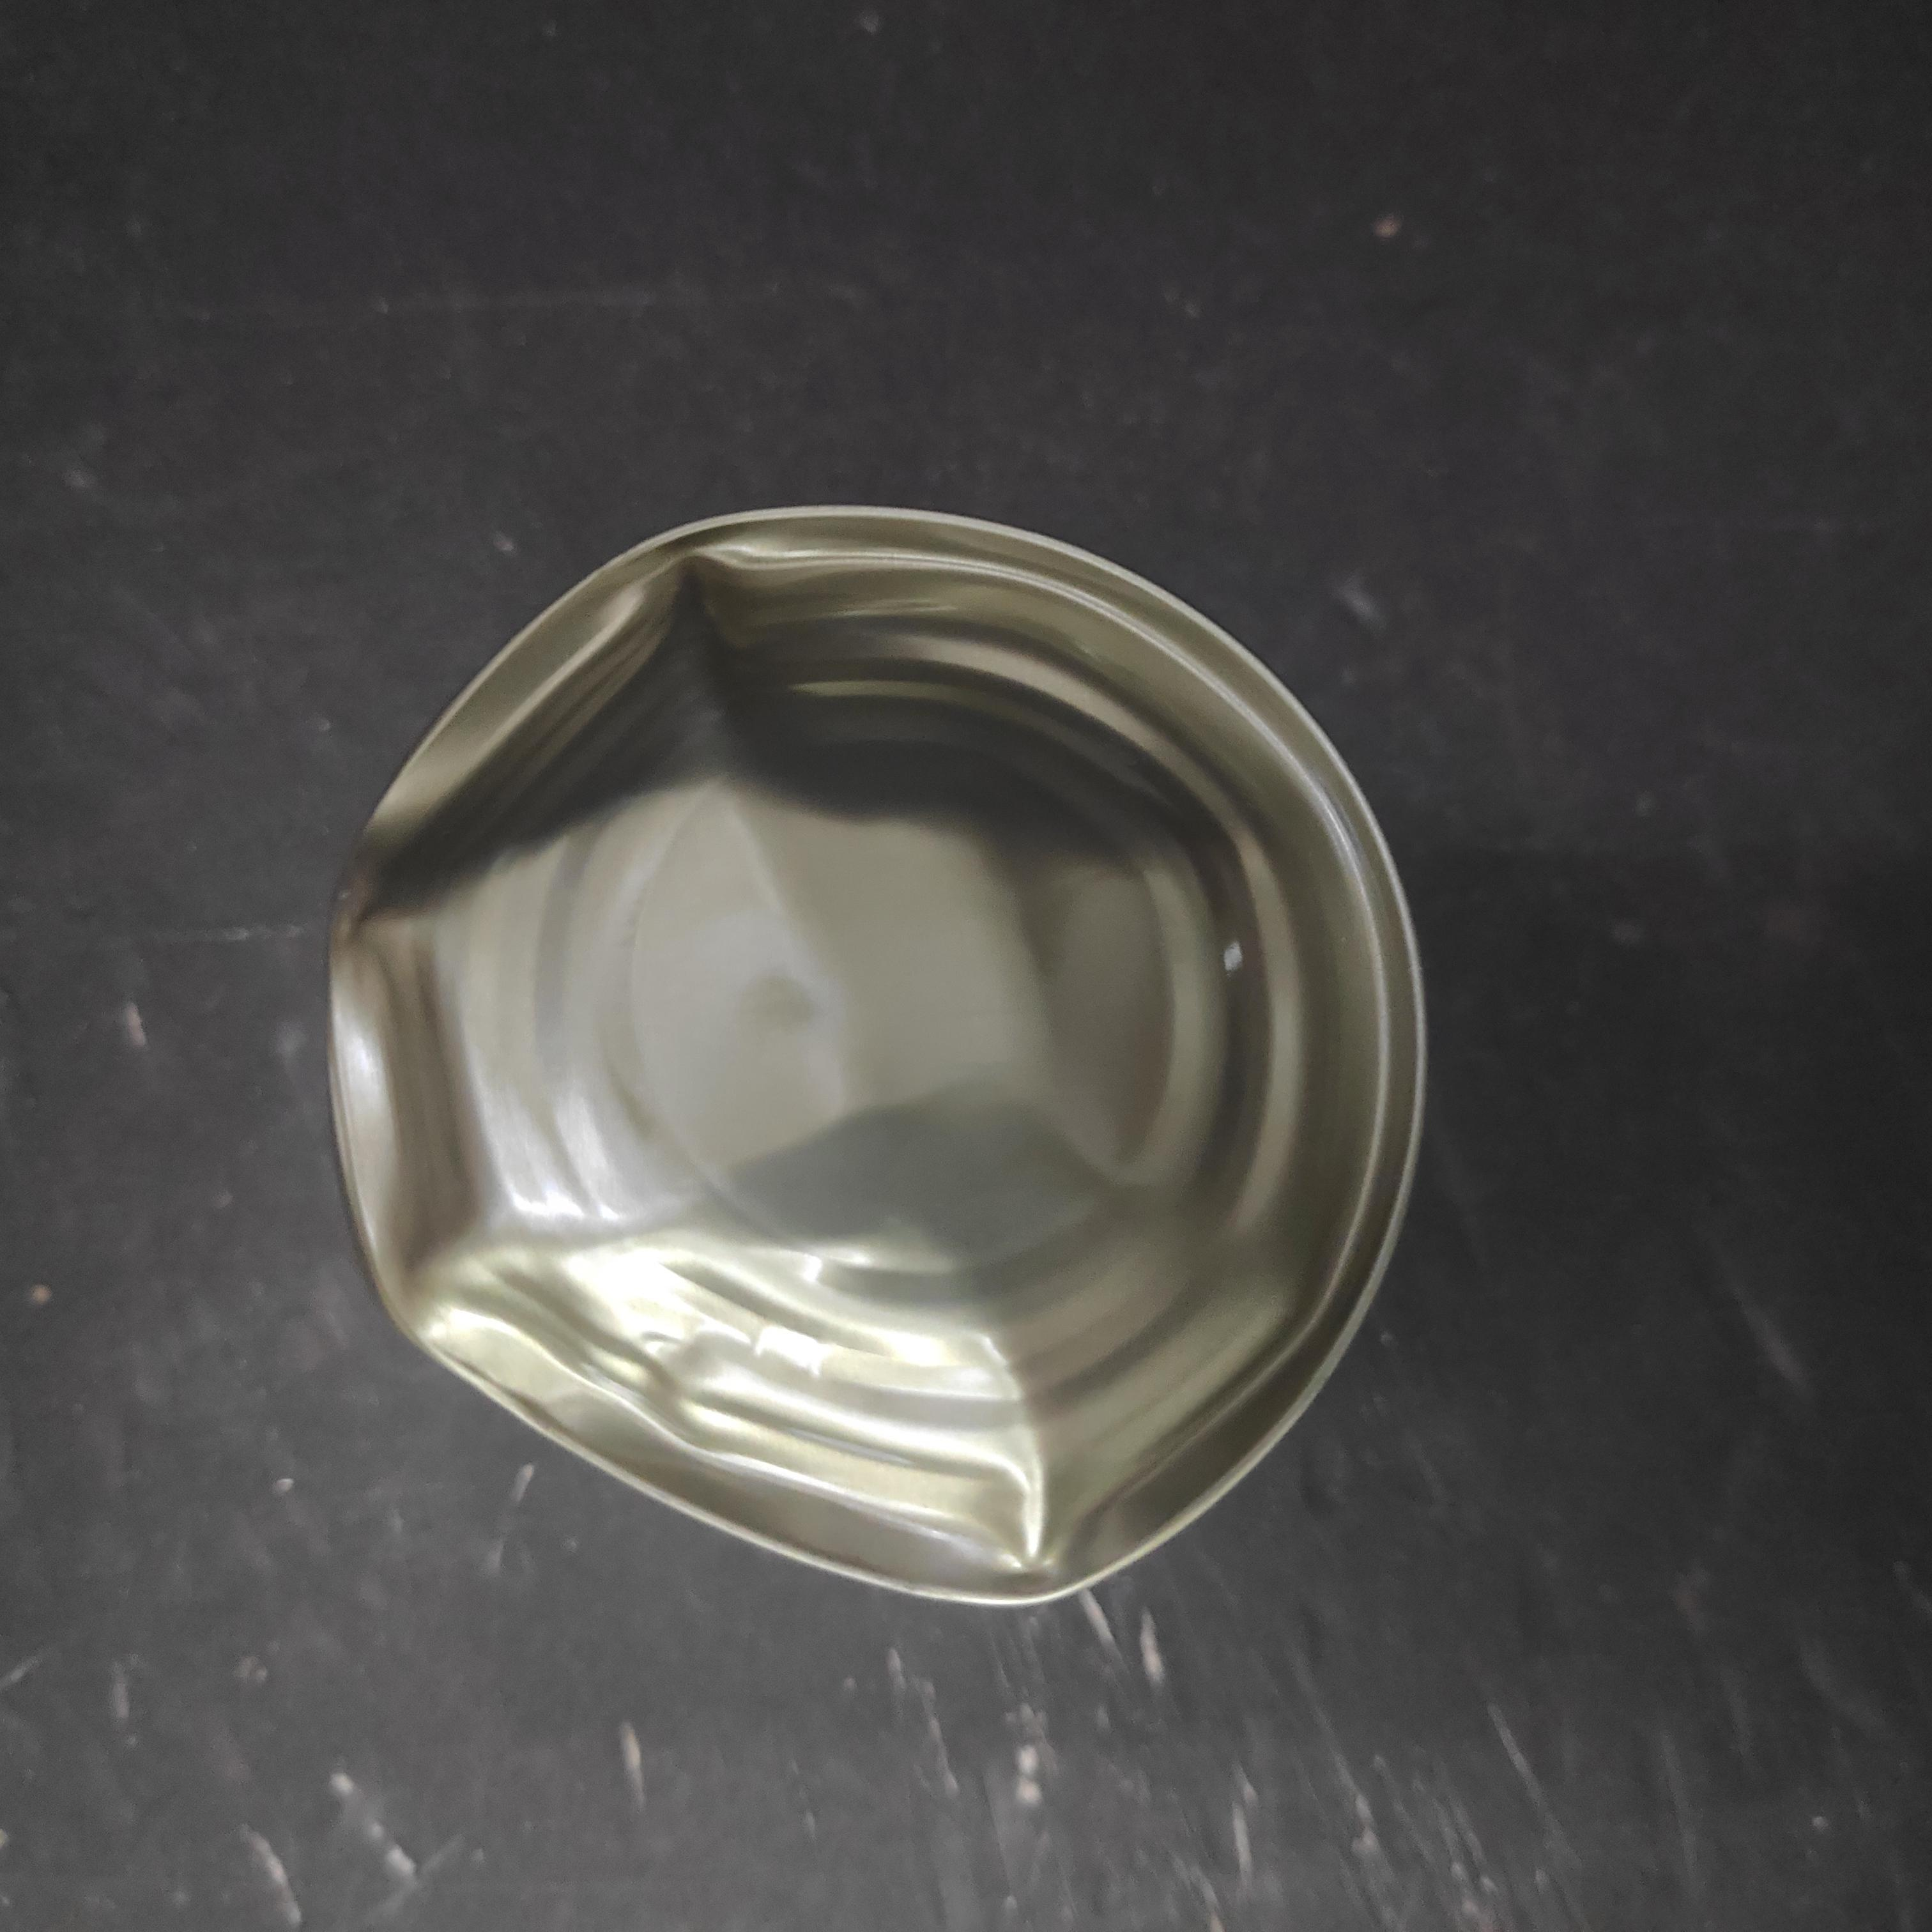Critical Defect: (320, 304, 1442, 1445)
